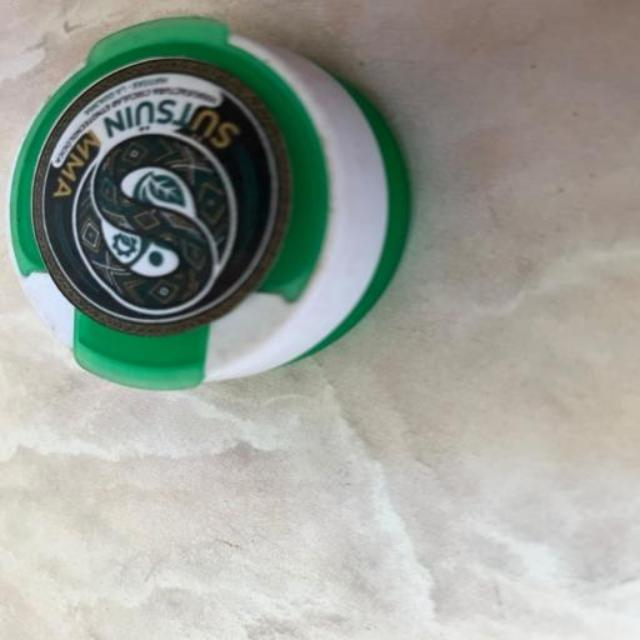HDPE: (10, 26, 470, 421)
